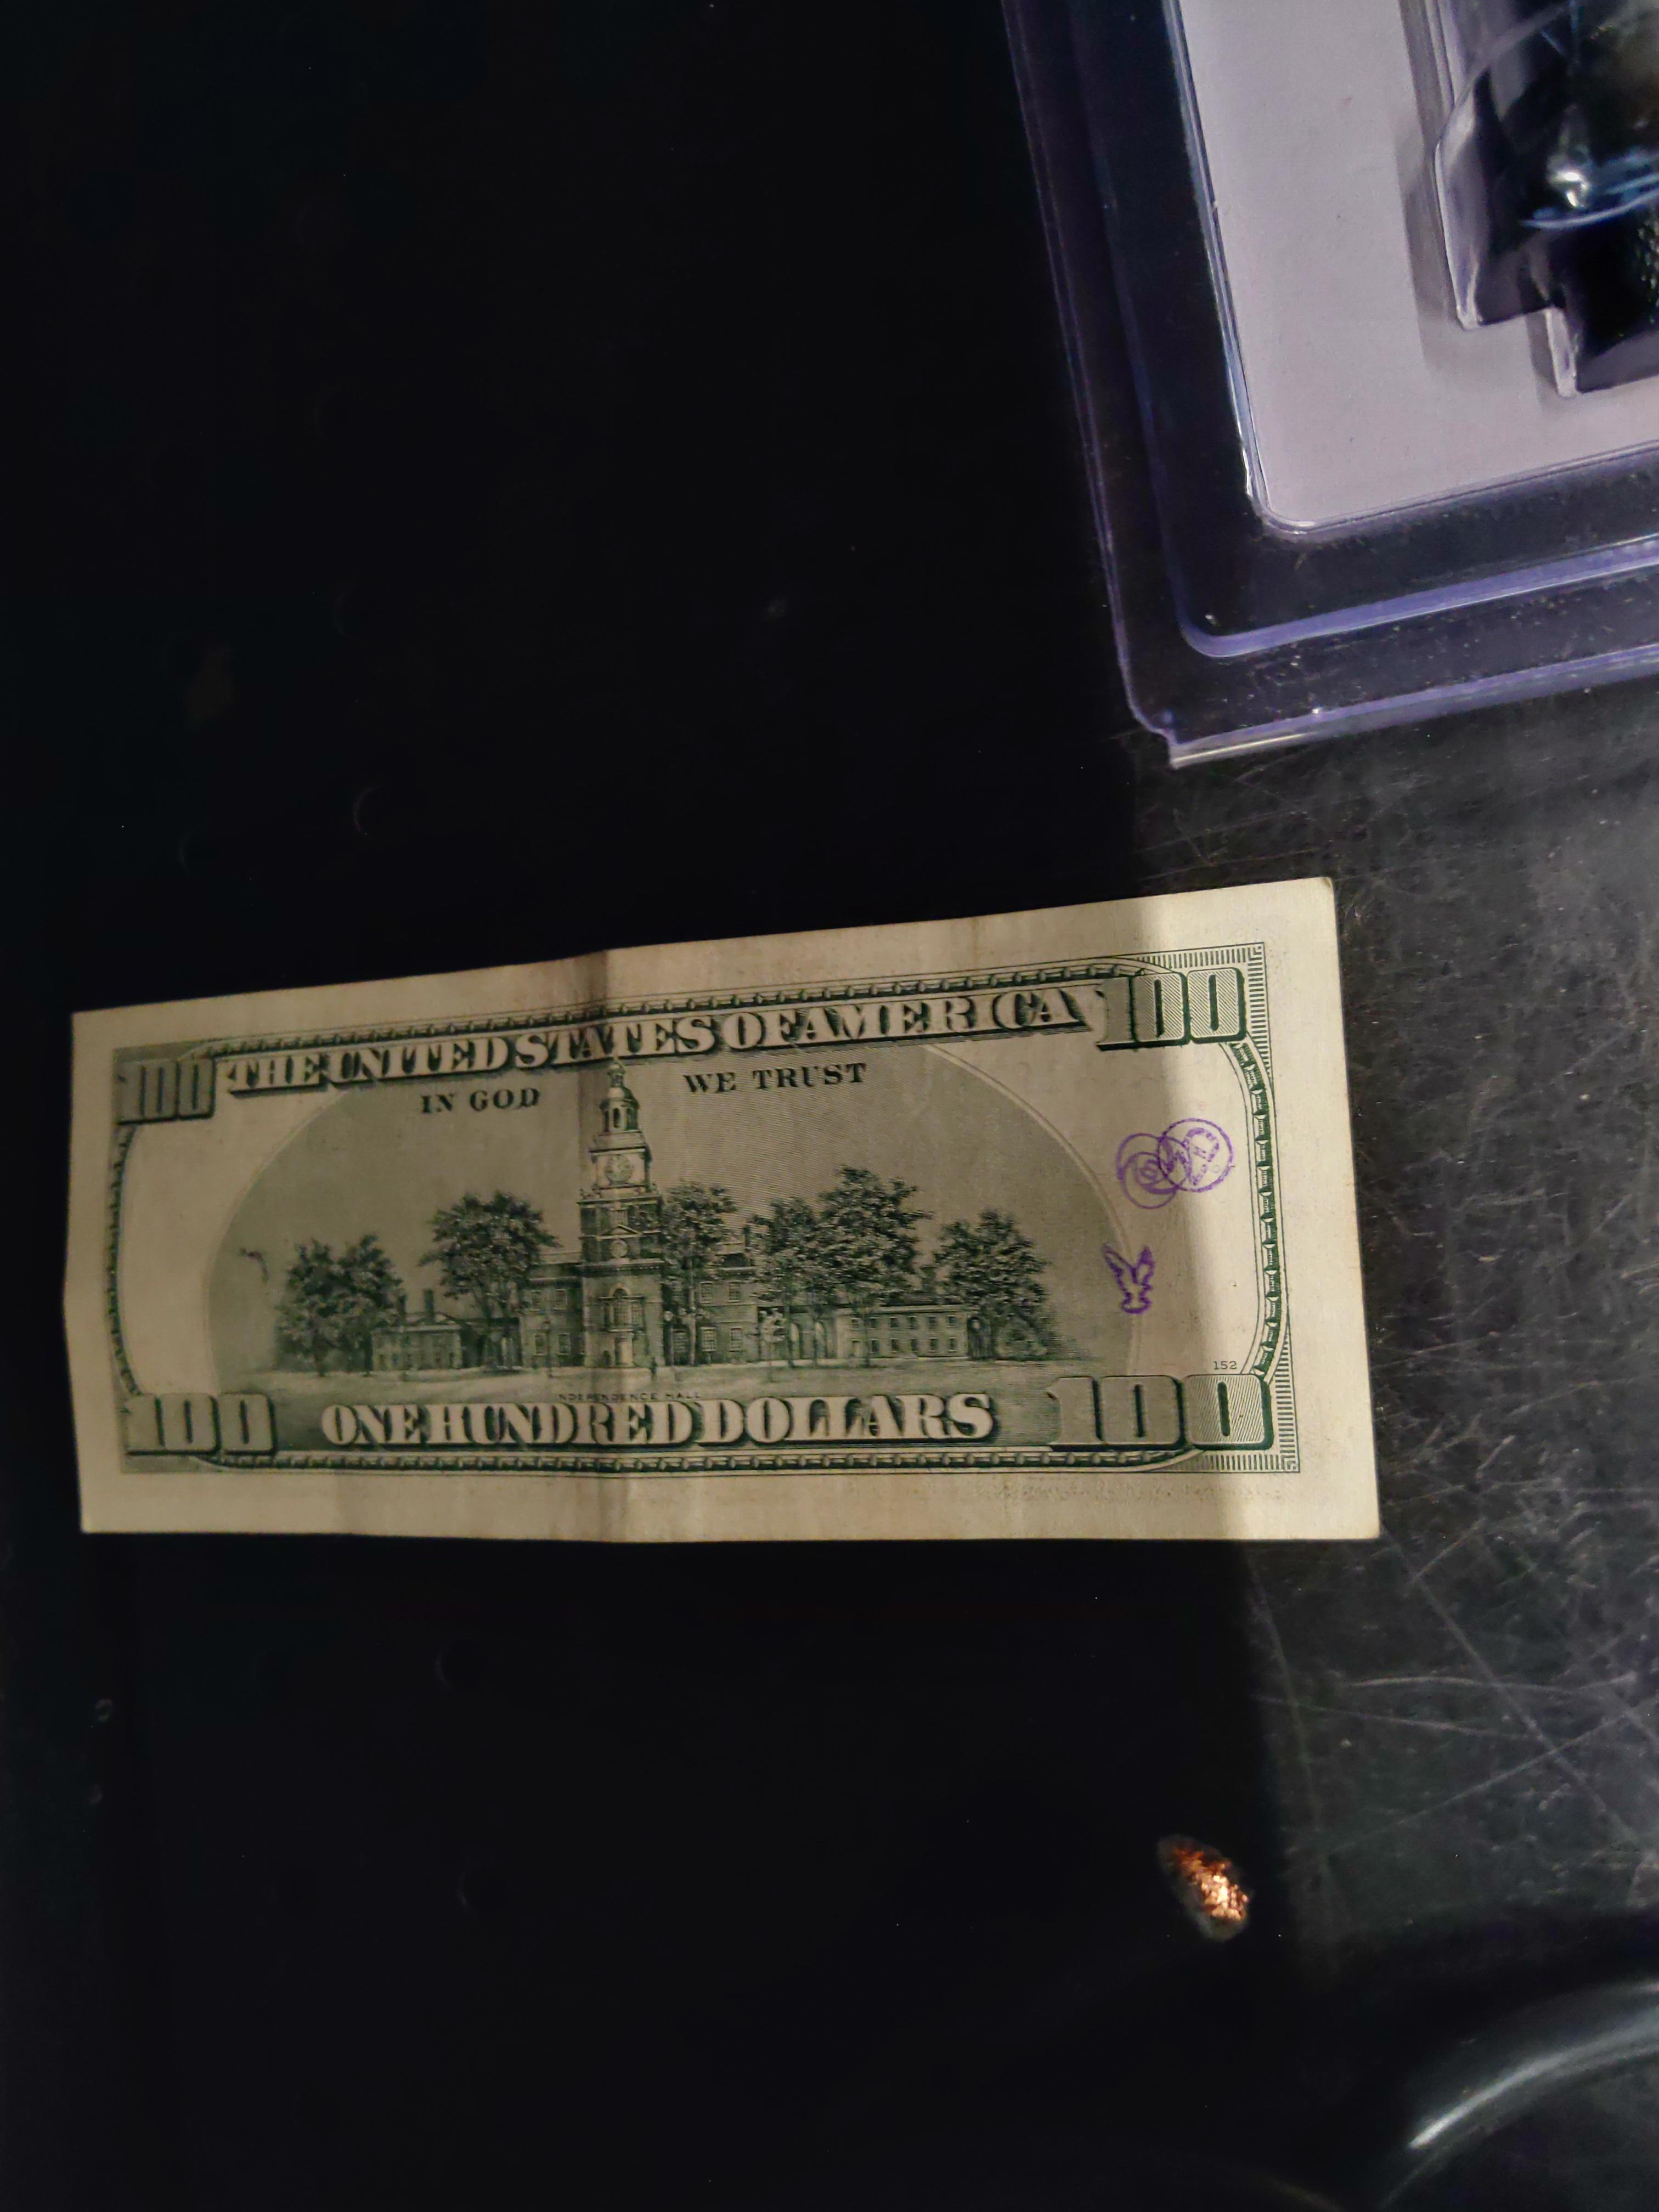HundredBill: (61, 871, 1382, 1550)
